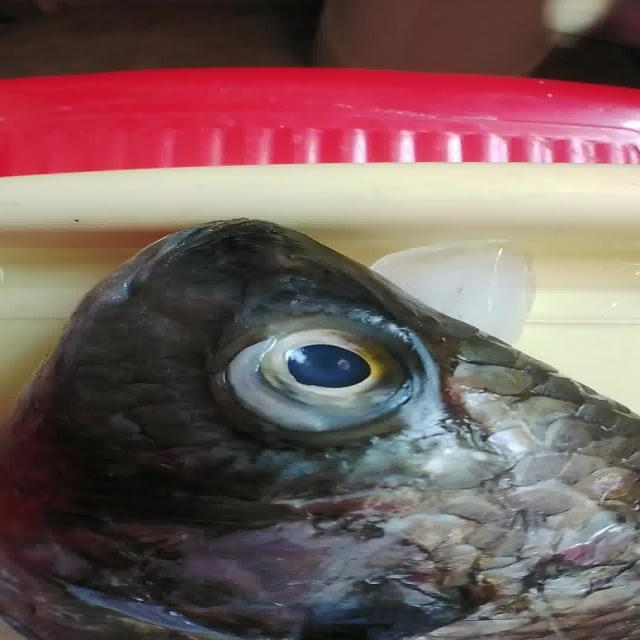Fresh: (190, 299, 457, 450)
